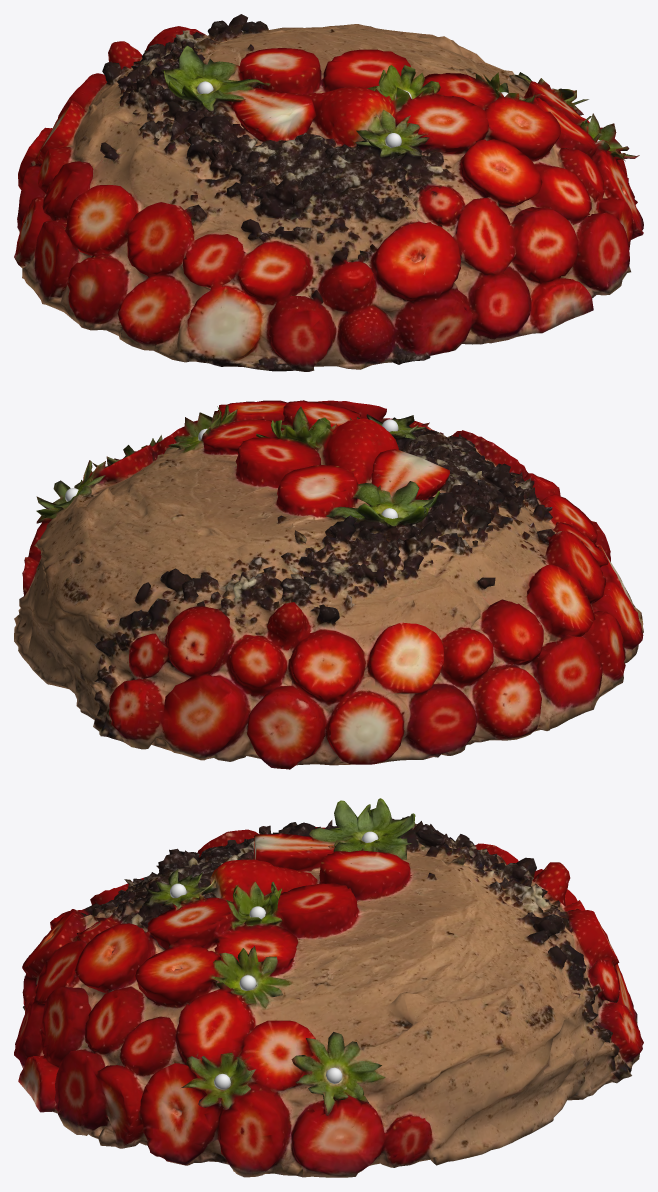
The model's file is strawberry_chocolate_cake.glb.
The picture shows the model from 3 angles, top to bottom: view 1: azimuth 30°, elevation 25°; view 2: azimuth 150°, elevation 25°; view 3: azimuth 270°, elevation 25°; orthographic projection. The views are drawn at different scales.
Parts seen in each view (by area): view 1: strawberry_chocolate_cake; view 2: strawberry_chocolate_cake; view 3: strawberry_chocolate_cake.
Boxes of the visible parts, bbox=[...] form: strawberry_chocolate_cake: bbox=[14, 14, 643, 371]; strawberry_chocolate_cake: bbox=[14, 400, 643, 769]; strawberry_chocolate_cake: bbox=[14, 798, 643, 1177].
Bounding box in the file's own units: 0.2443 × 0.0792 × 0.2403.
1 material, 1 textured.
